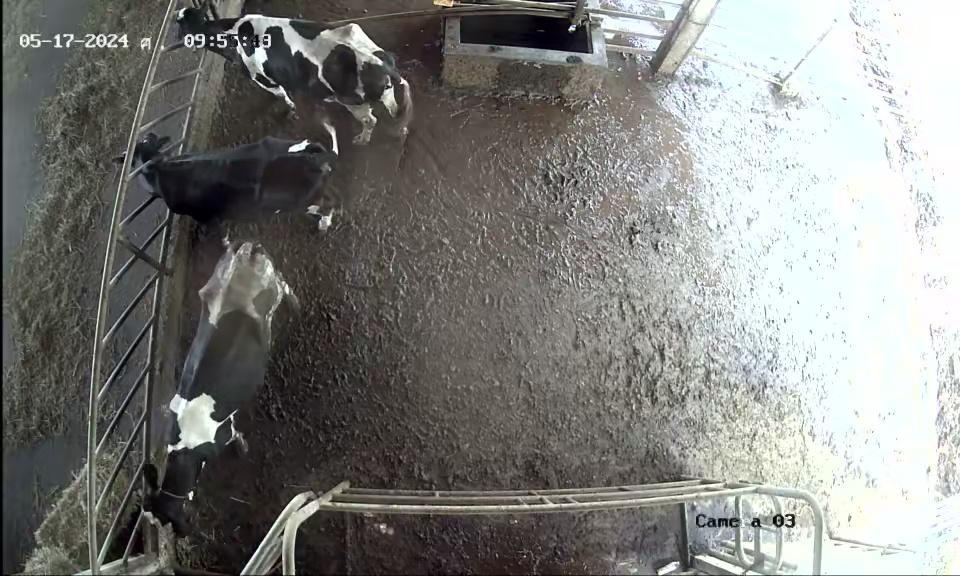eat: (82, 119, 212, 210)
stand: (135, 231, 300, 542), (172, 4, 439, 146)
